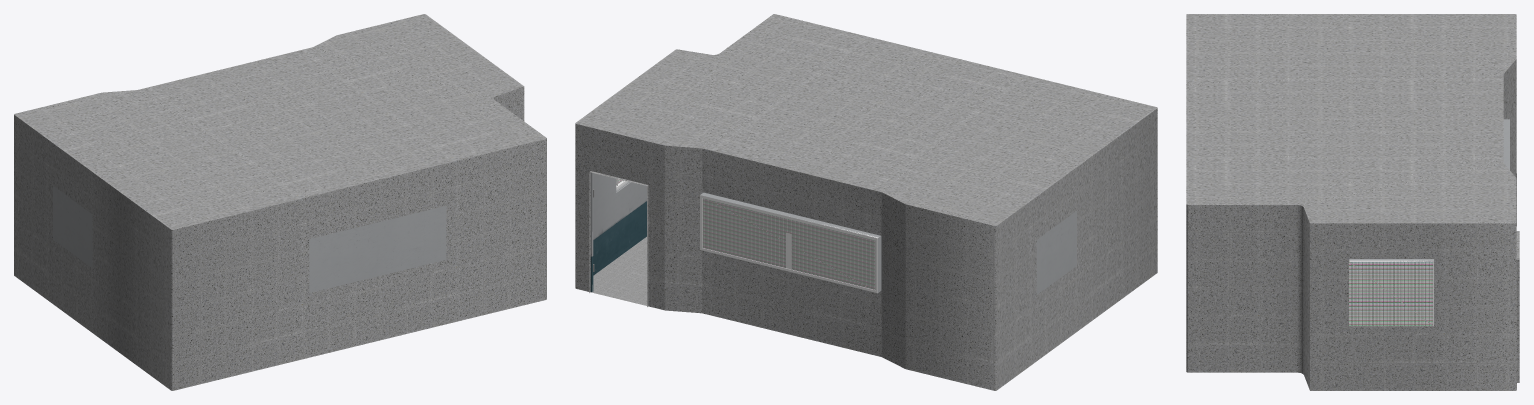
The model's file is Room_Hazards.FBX.
The picture shows the model from 3 angles, left to right: view 1: azimuth 30°, elevation 25°; view 2: azimuth 150°, elevation 25°; view 3: azimuth 270°, elevation 25°; orthographic projection. The views are drawn at different scales.
Visible parts, largest first — view 1: Room_Hazards_Blocker, Room_Hazards; view 2: Room_Hazards_Blocker, Room_Hazards, Room_Hazards_WindowMeshes; view 3: Room_Hazards_Blocker, Room_Hazards_WindowMeshes, Room_Hazards.
Boxes of the visible parts, x1=… form: Room_Hazards_Blocker: x1=14, y1=14, x2=546, y2=390; Room_Hazards: x1=53, y1=186, x2=446, y2=292; Room_Hazards_Blocker: x1=575, y1=14, x2=1157, y2=390; Room_Hazards: x1=590, y1=172, x2=1076, y2=294; Room_Hazards_WindowMeshes: x1=616, y1=179, x2=875, y2=289; Room_Hazards_Blocker: x1=1186, y1=14, x2=1519, y2=390; Room_Hazards_WindowMeshes: x1=1349, y1=261, x2=1433, y2=326; Room_Hazards: x1=1349, y1=118, x2=1509, y2=326.
Size of the model in its own units: 320 by 118 by 213.
